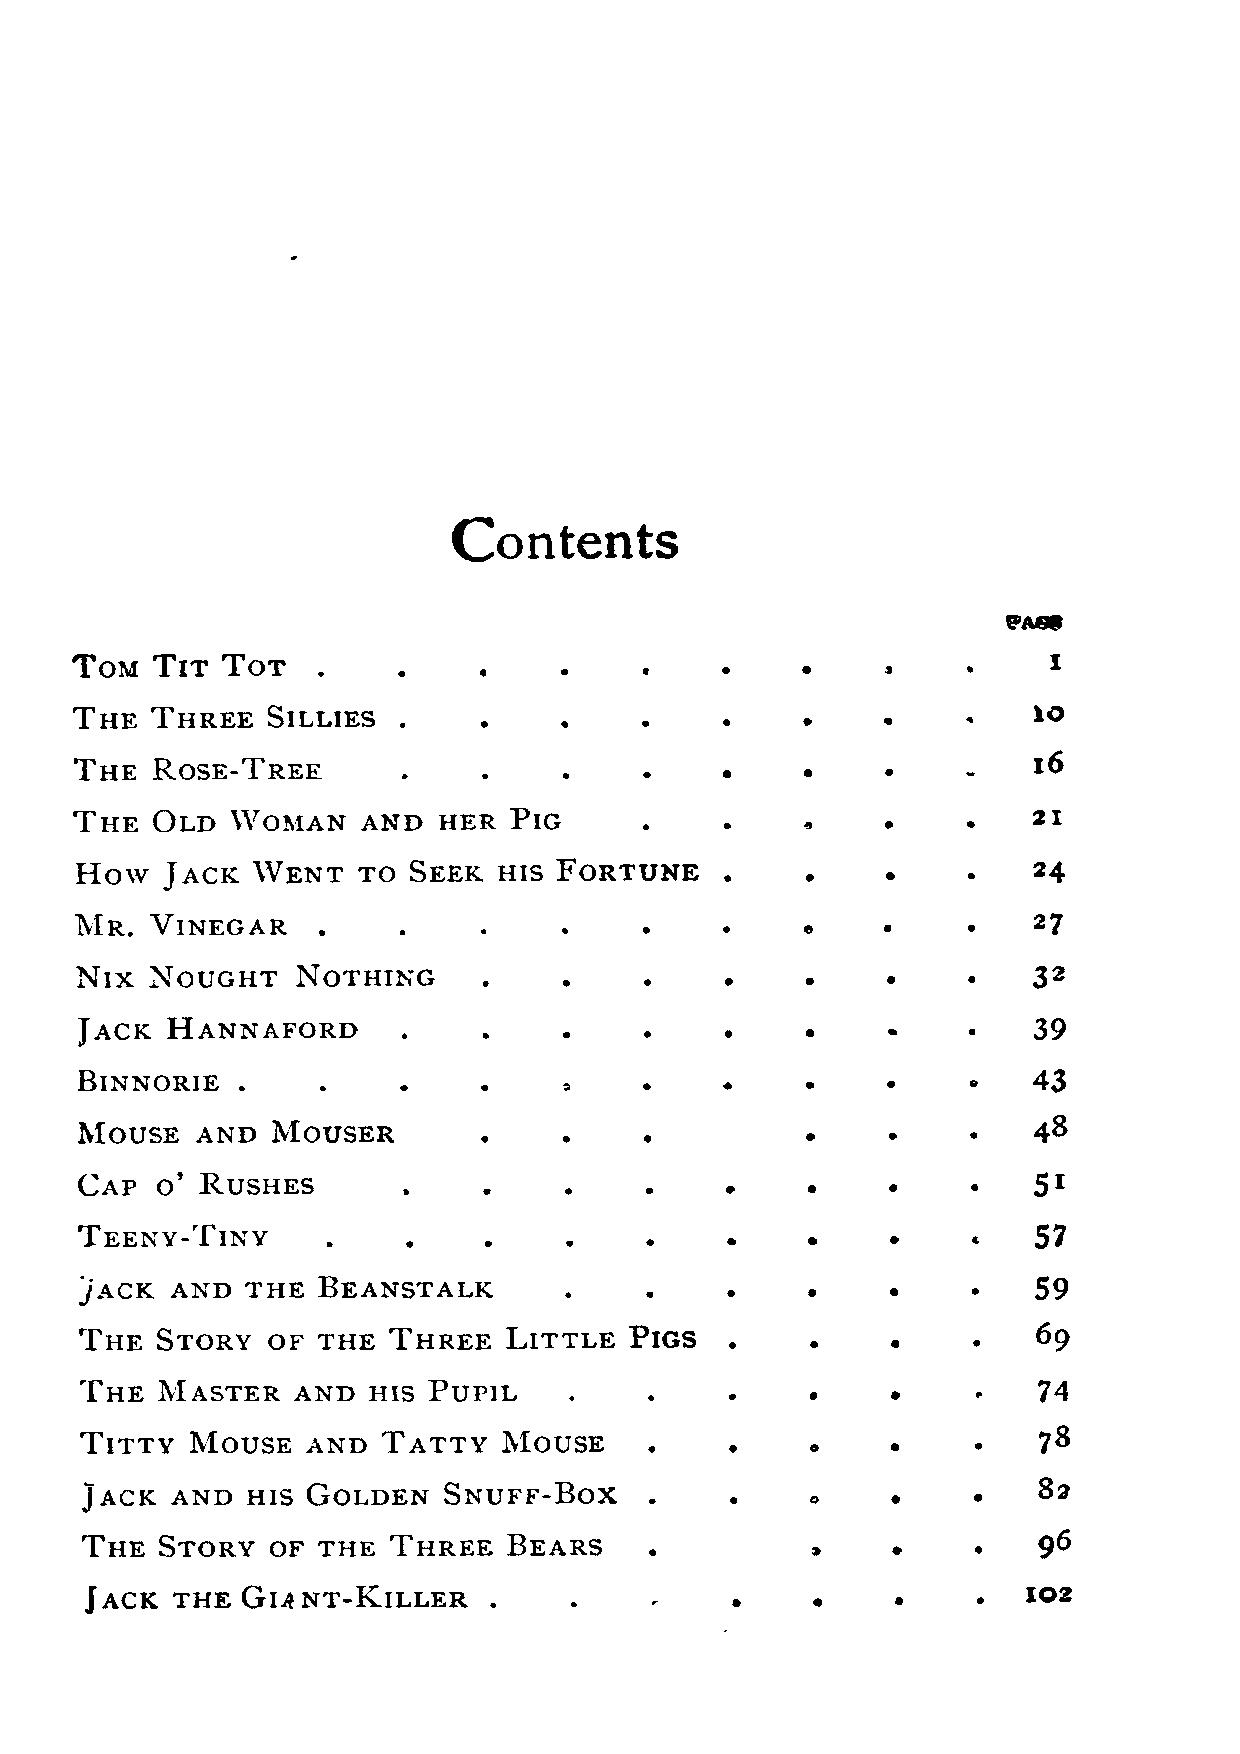TOC_chapter: (72, 858, 702, 894), (74, 1323, 699, 1358), (75, 1478, 625, 1512), (76, 1431, 613, 1460), (82, 1530, 607, 1559), (75, 1271, 499, 1306), (79, 1376, 525, 1406), (82, 1581, 470, 1616), (71, 808, 565, 833), (72, 962, 437, 994), (72, 1015, 365, 1049), (75, 1117, 399, 1147), (67, 702, 378, 731), (70, 753, 325, 784), (68, 650, 289, 684), (76, 1169, 317, 1198), (72, 911, 286, 941), (76, 1220, 266, 1251), (72, 1067, 224, 1096)
TOC_pagenumber: (1035, 1318, 1071, 1351), (1023, 1582, 1072, 1606), (1035, 1529, 1076, 1557), (1031, 1015, 1070, 1044), (1035, 1378, 1074, 1408), (1027, 907, 1067, 935), (1035, 1219, 1066, 1253), (1037, 1475, 1075, 1503), (1031, 1068, 1070, 1095), (1035, 1169, 1066, 1202), (1033, 1274, 1070, 1302), (1031, 1114, 1070, 1139), (1036, 1425, 1072, 1452), (1031, 749, 1067, 774), (1032, 966, 1070, 990), (1029, 860, 1066, 884), (1033, 701, 1066, 726), (1031, 804, 1066, 827), (1045, 646, 1066, 671)
chapter: (451, 511, 680, 565)
